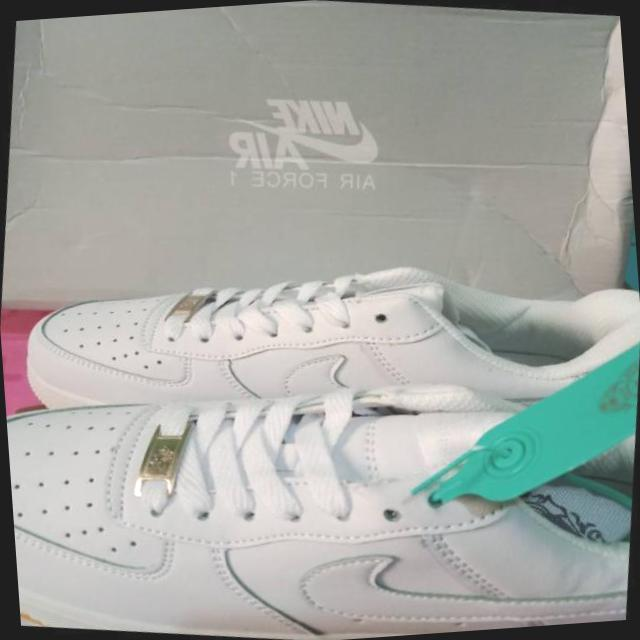nike_fake_airforce: (2, 315, 640, 640), (0, 196, 640, 513)
